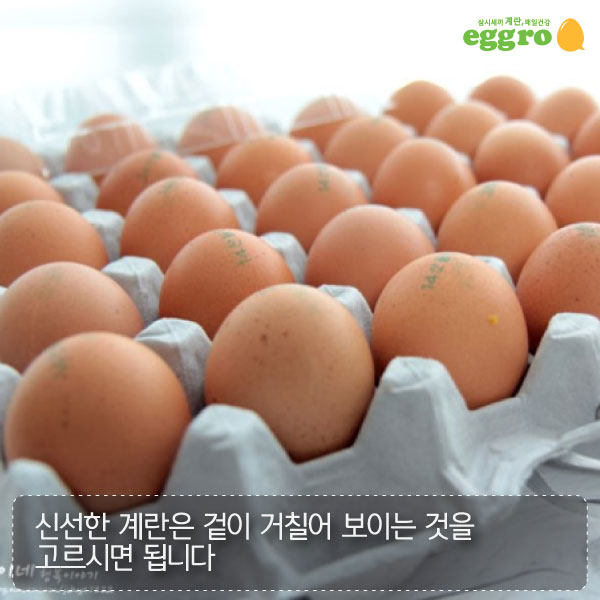egg: (1, 72, 598, 506)
